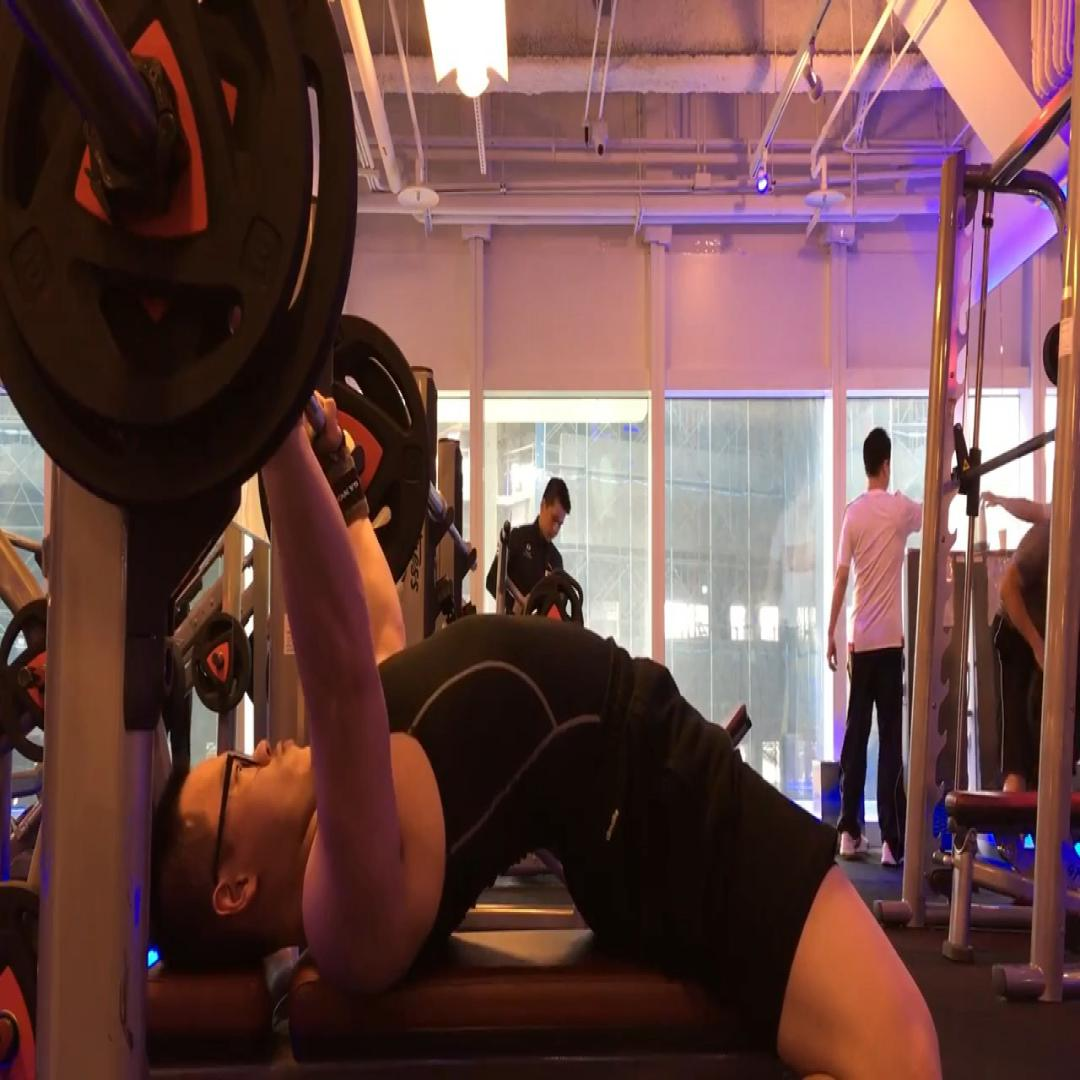Barbell: (0, 0, 361, 508)
